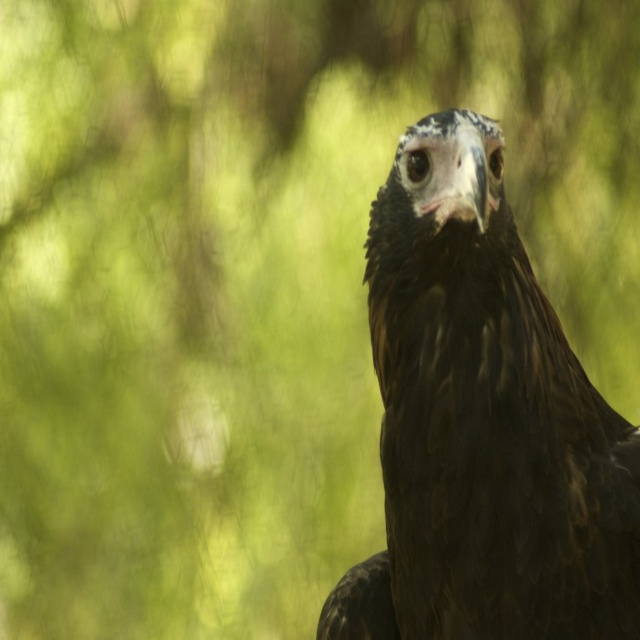Eagle: (319, 107, 640, 639)
